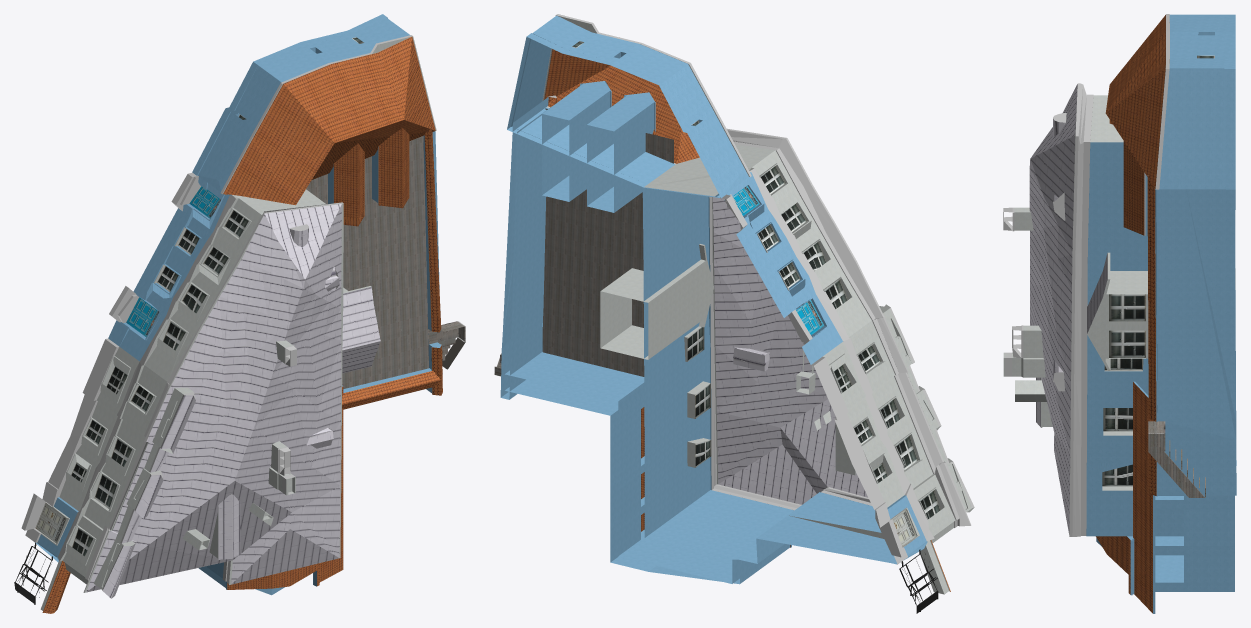
Rendered from Uus_34-origo.obj.
3 views of the same model, side by side, from view 1: azimuth 30°, elevation 25°; view 2: azimuth 150°, elevation 25°; view 3: azimuth 270°, elevation 25° (orthographic). The views are drawn at different scales.
Visible parts, largest first — view 1: uus_tn_34; view 2: uus_tn_34; view 3: uus_tn_34.
Boxes of the visible parts, bbox=[...] form: uus_tn_34: bbox=[14, 14, 465, 613]; uus_tn_34: bbox=[494, 14, 974, 613]; uus_tn_34: bbox=[1003, 14, 1236, 613].
Size of the model in its own units: 27.69 by 32 by 11.52.
